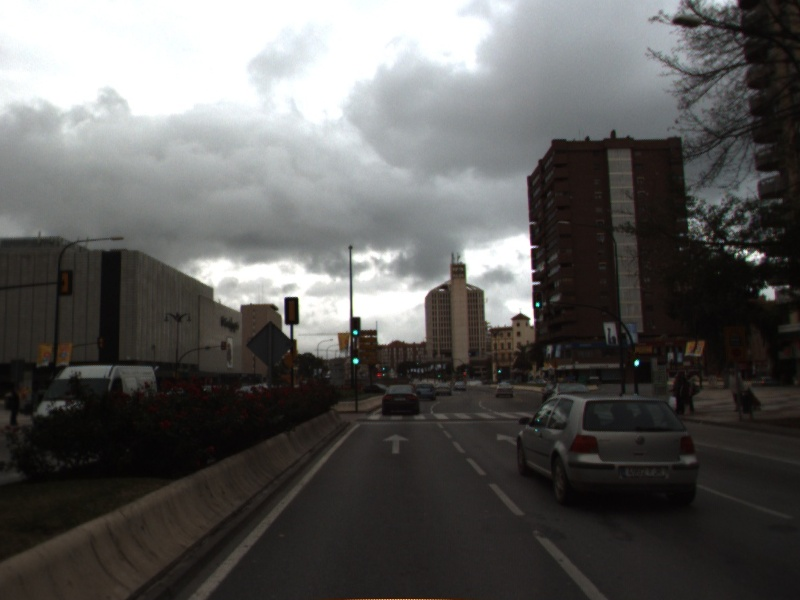STRAIGHT: (380, 431, 411, 455), (494, 431, 519, 446)
